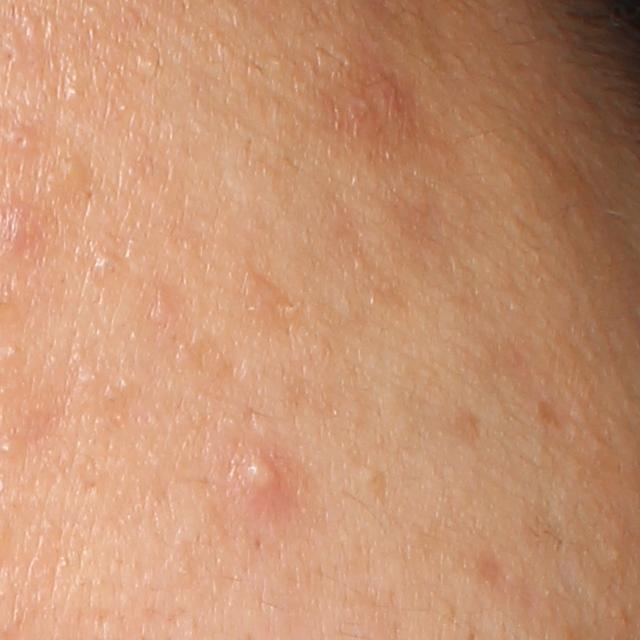comedo: (88, 251, 122, 288), (4, 124, 39, 155), (58, 78, 86, 109), (59, 154, 87, 183)
pustule: (223, 440, 307, 518)
